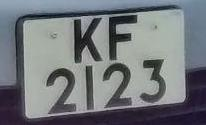1: (78, 61, 102, 114)
2: (36, 62, 85, 115), (99, 59, 138, 109)
3: (134, 54, 172, 106)
F: (103, 10, 145, 63)
K: (70, 15, 106, 69)
